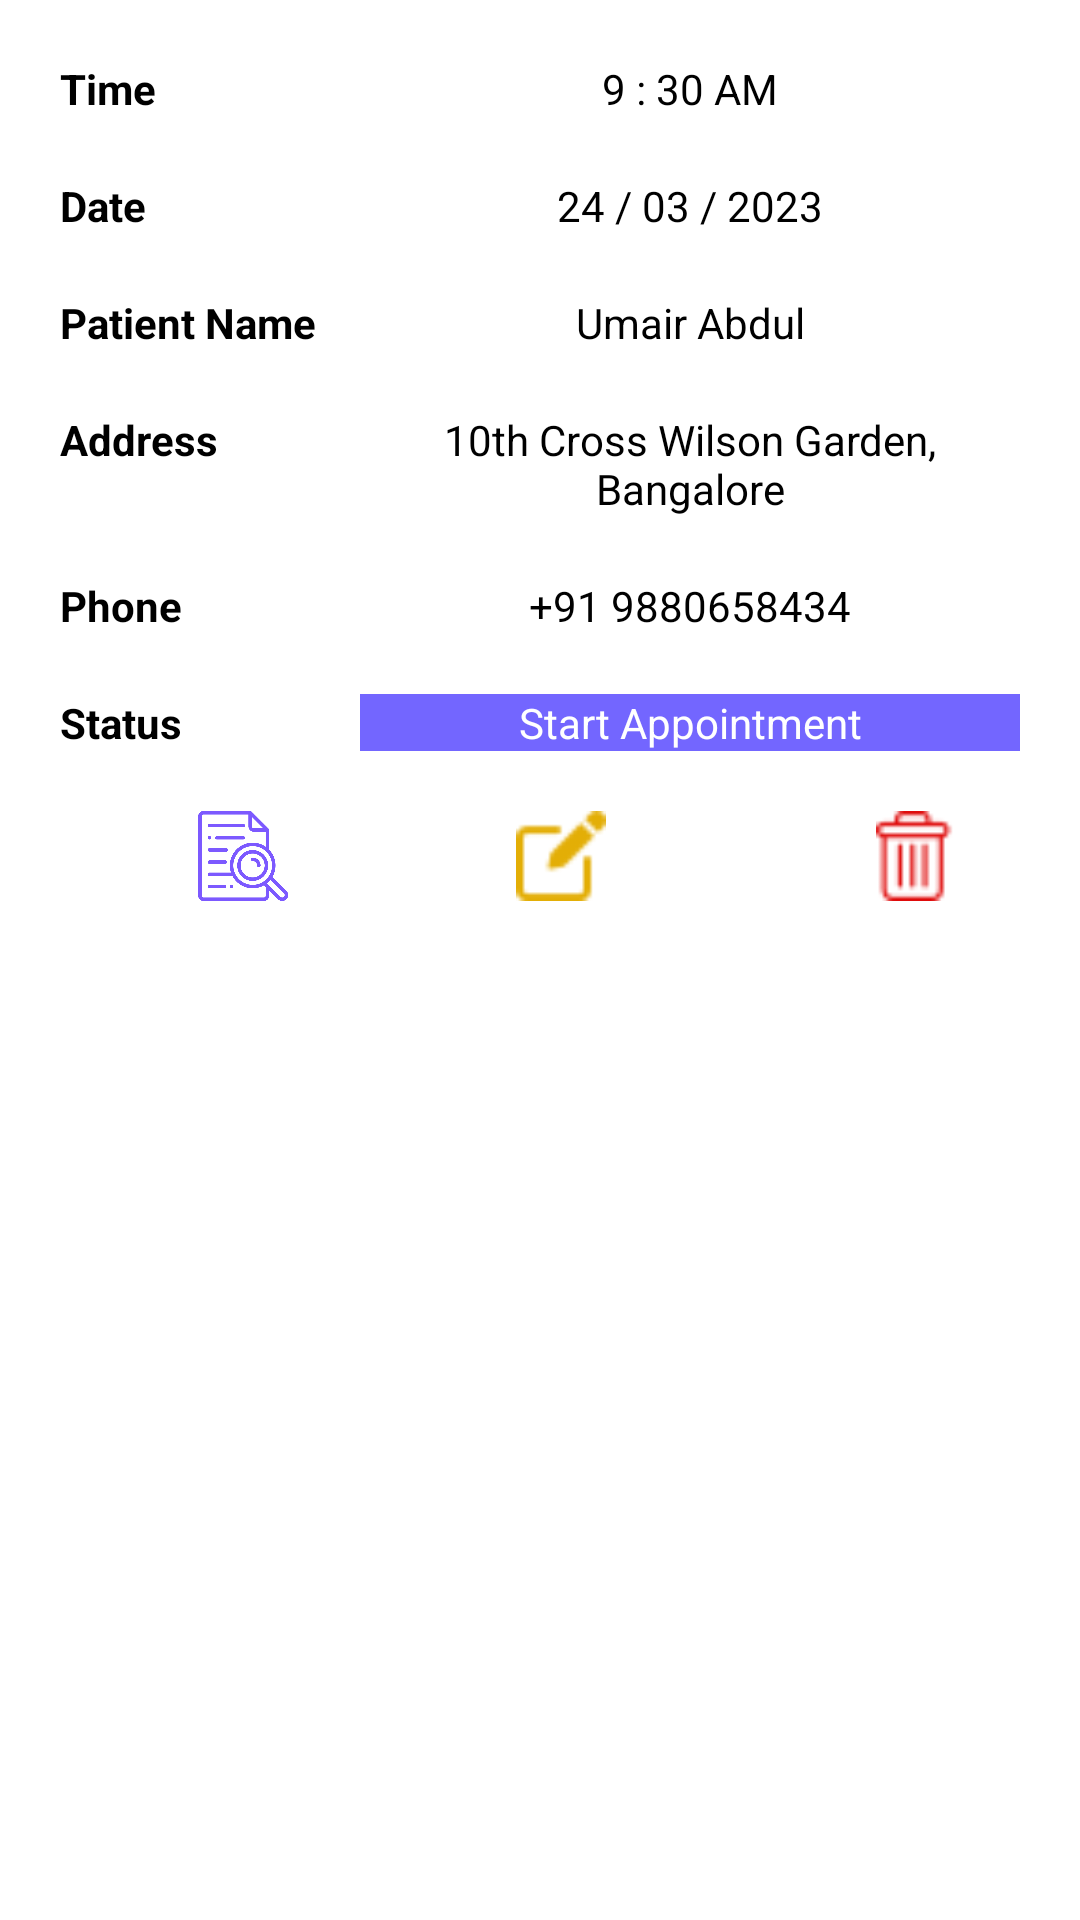

Icons on this 1080x1920 Android screen, each with its box as (x1, y1, x2, y2):
delete: (876, 811, 952, 901)
file: (198, 811, 288, 901)
update: (516, 811, 606, 901)
